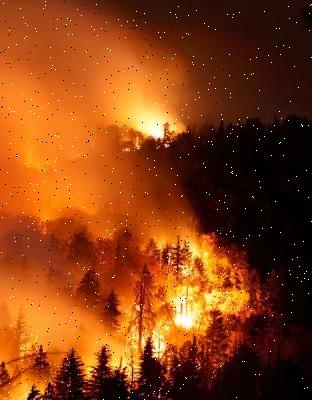fire: (0, 32, 259, 400)
